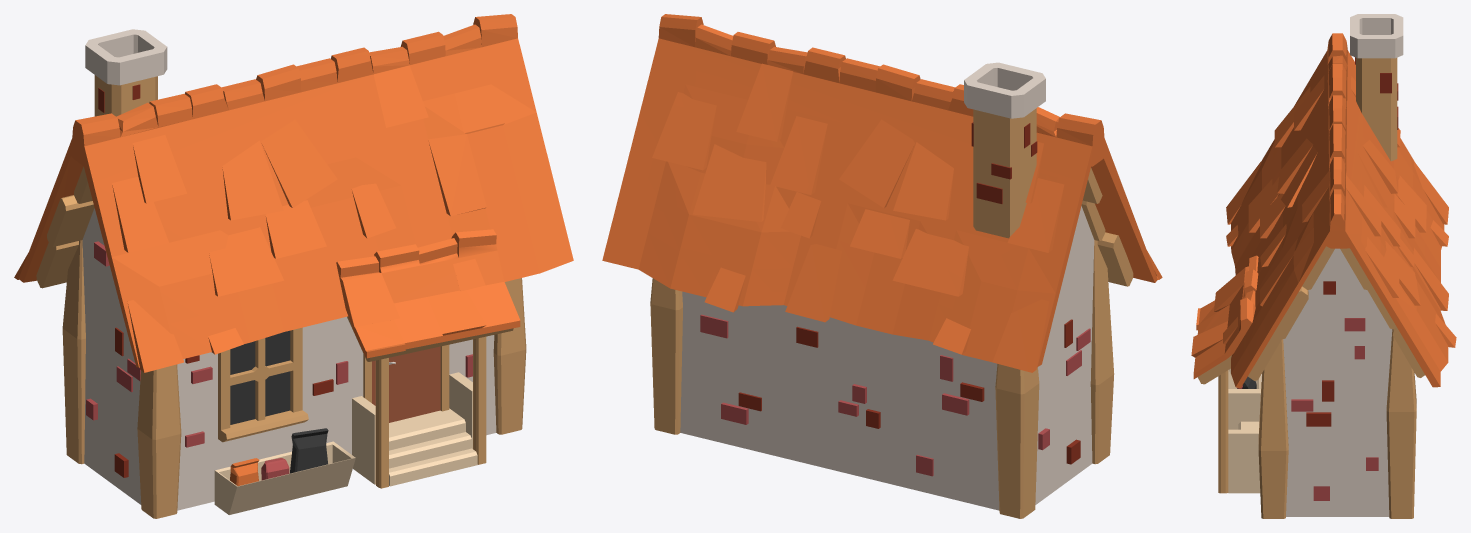
Rendered from House_1.FBX.
3 views of the same model, side by side, from view 1: azimuth 30°, elevation 25°; view 2: azimuth 150°, elevation 25°; view 3: azimuth 270°, elevation 25° (orthographic). The views are drawn at different scales.
Visible parts, largest first — view 1: house 1; view 2: house 1; view 3: house 1.
Boxes of the visible parts, box(x1,y1,x2,y2) form: house 1: box(14, 14, 573, 518); house 1: box(602, 14, 1162, 518); house 1: box(1191, 14, 1456, 518).
Bounding box in the file's own units: 319 × 290 × 196.
